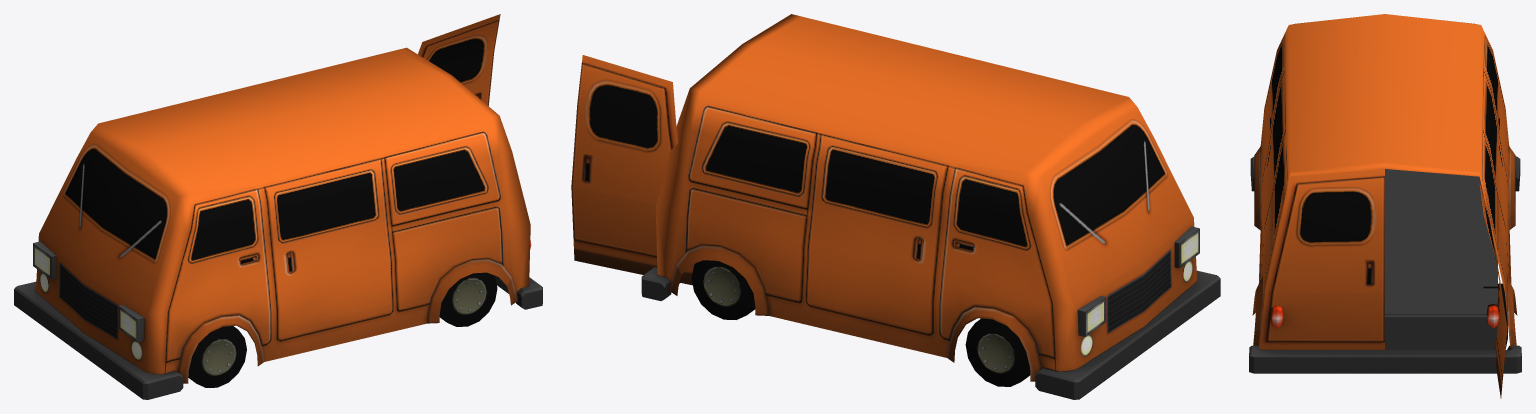
File: car.glb
3 views of the same model, side by side, from view 1: azimuth 30°, elevation 25°; view 2: azimuth 150°, elevation 25°; view 3: azimuth 270°, elevation 25° (orthographic). The views are drawn at different scales.
Parts seen in each view (by area): view 1: Track:ven, Track:Ven_front_left_tyre, Track:Ven_back_left_tyre; view 2: Track:ven, Track:Ven_front_right_tyre, Track:Ven_back_right_tyre; view 3: Track:ven, Plane, Plane.001.
Part boxes in pixels (x1,y1,x2,y2): Track:ven: (14, 14, 542, 399); Track:Ven_front_left_tyre: (188, 326, 246, 387); Track:Ven_back_left_tyre: (439, 272, 497, 326); Track:ven: (571, 14, 1220, 399); Track:Ven_front_right_tyre: (965, 318, 1030, 386); Track:Ven_back_right_tyre: (691, 260, 755, 319); Track:ven: (1249, 14, 1521, 398); Plane: (1385, 169, 1497, 317); Plane.001: (1385, 314, 1497, 349).
Bounding box in the file's own units: 5.19 × 2.11 × 2.56.
Materials: 2 (1 with a texture image).
